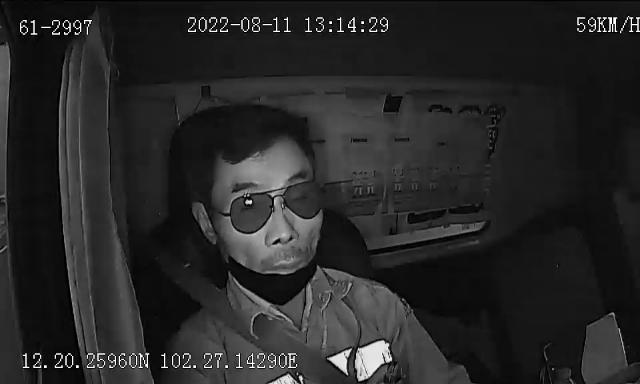SafeDriving: (418, 96, 460, 120), (233, 193, 265, 213)
Seatbelt: (160, 258, 348, 384)
